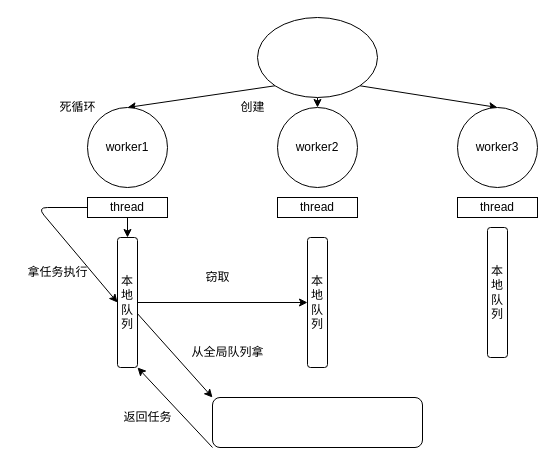
This 555x473 diagram has some shape labels left out. Here are the shapes that lost their labels. From the top down, the centre of each, then its label:
[317,57]: 线程池
[317,422]: 全局队列
